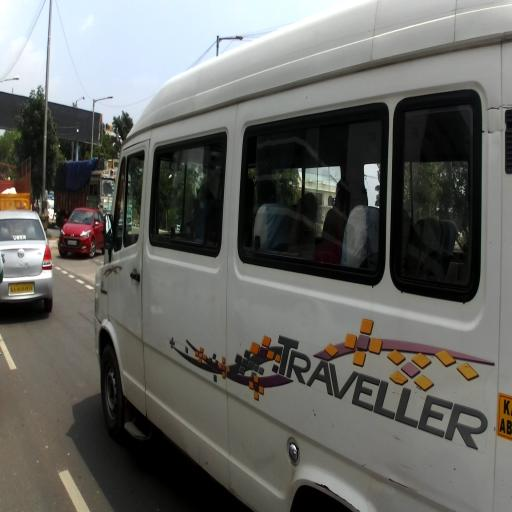street_light_0: (91, 92, 115, 108), (215, 35, 246, 46), (0, 75, 19, 88)
